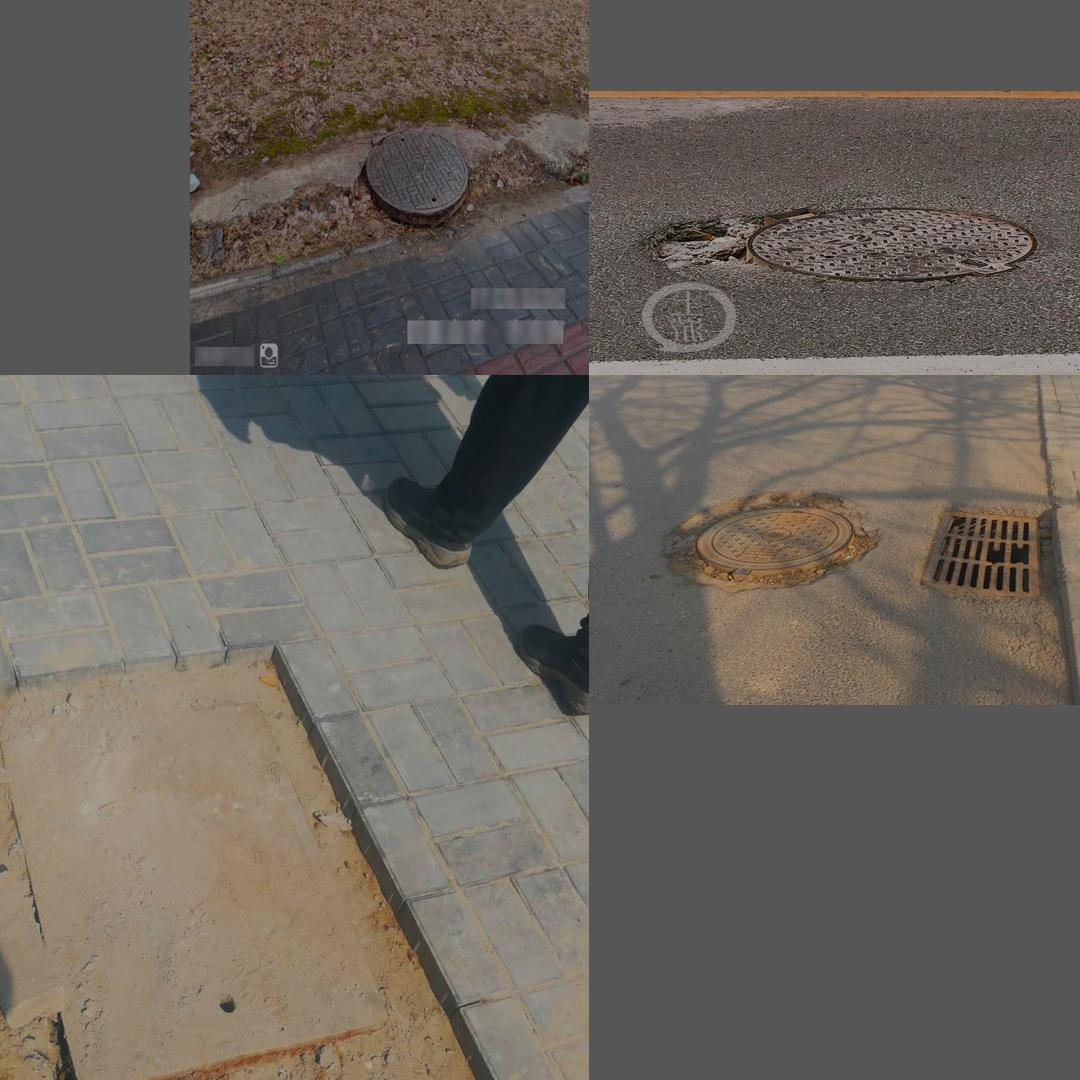circle: (0, 669, 508, 1080), (630, 202, 1042, 291), (661, 482, 886, 596), (360, 126, 470, 224)
